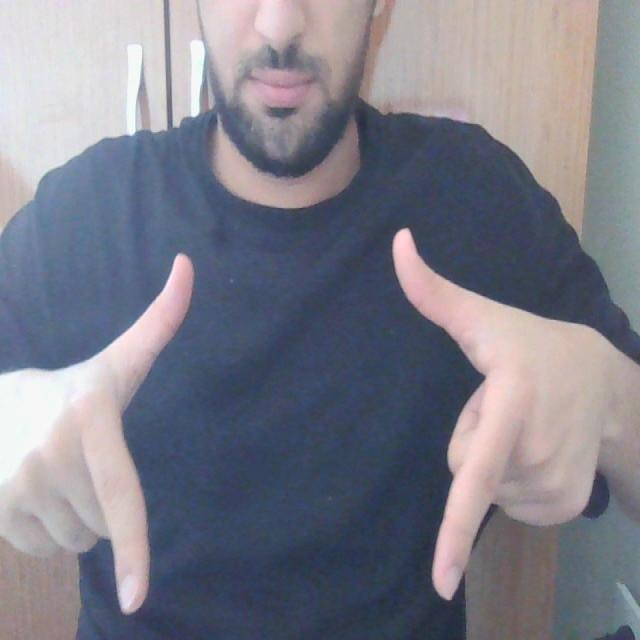Nerede: (58, 221, 514, 627)
